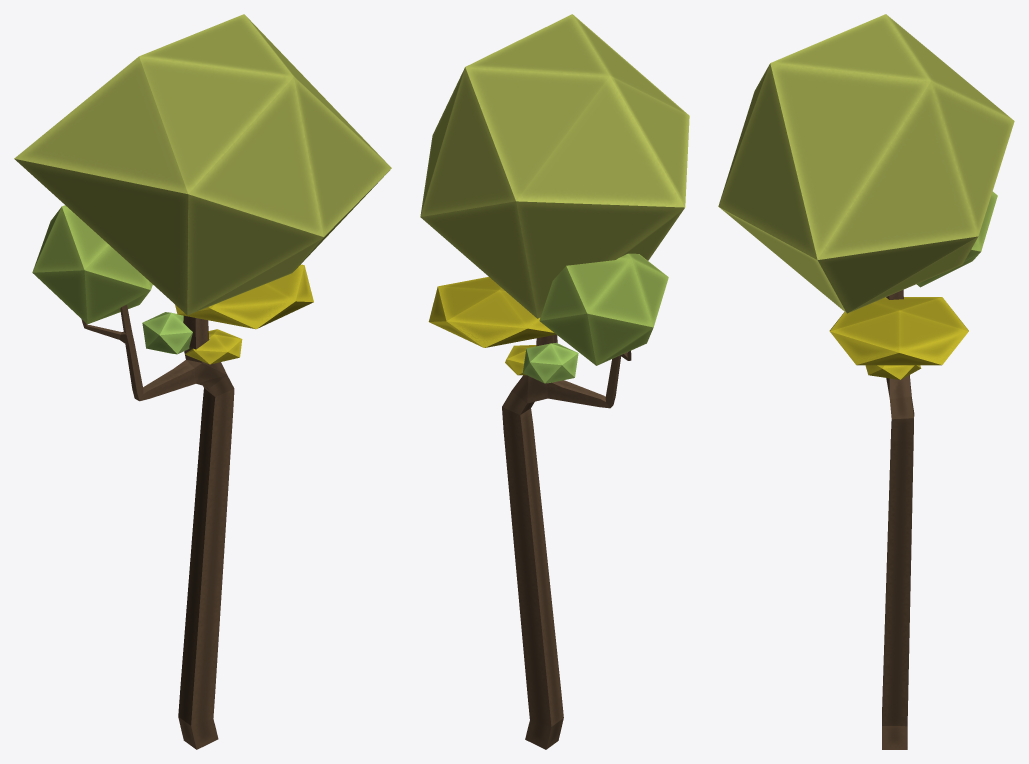
File: Tree2.804004df.glb
3 renders of one model, left to right at view 1: azimuth 30°, elevation 25°; view 2: azimuth 150°, elevation 25°; view 3: azimuth 270°, elevation 25°, orthographic. The views are drawn at different scales.
Visible parts, largest first — view 1: Icosphere.007; view 2: Icosphere.007; view 3: Icosphere.007.
Part boxes in pixels (box(x1,y1,x2,y2)): Icosphere.007: box(14, 14, 391, 749); Icosphere.007: box(420, 14, 689, 749); Icosphere.007: box(718, 14, 1014, 749).
Size of the model in its own units: 8.41 by 17.71 by 6.76.
1 material, 1 textured.
